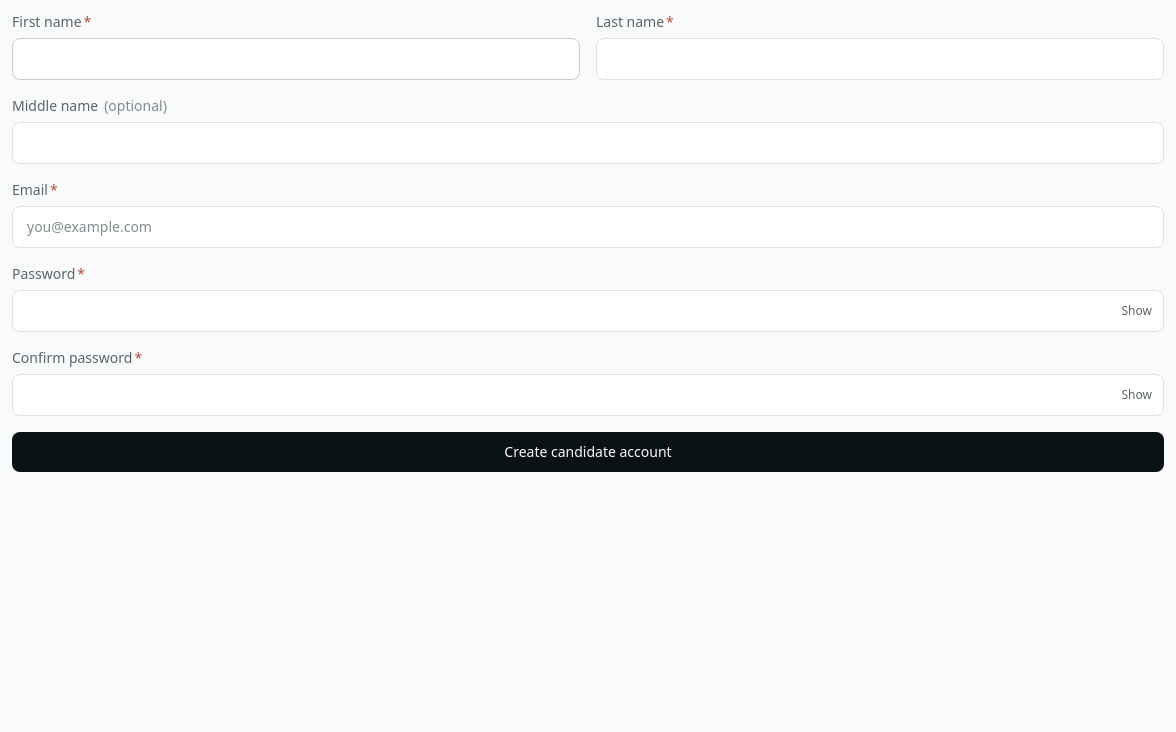
CandidateRegisterForm › rejects a weak password with a specific reason
The width and height of the screenshot is (1176, 732).
Type "Ada" into the field labelled "First name*" at (296, 59), box x1=12 y1=38 x2=580 y2=80
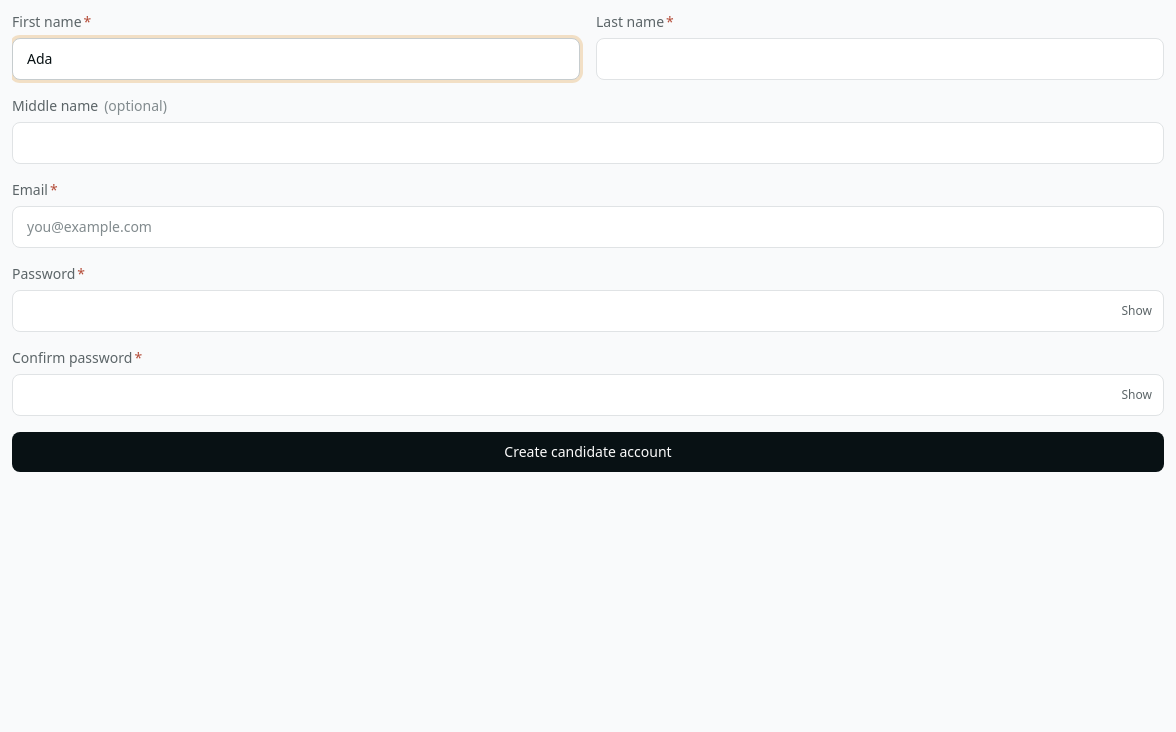
Type "Lovelace" into the field labelled "Last name*" at (880, 59), box x1=596 y1=38 x2=1164 y2=80
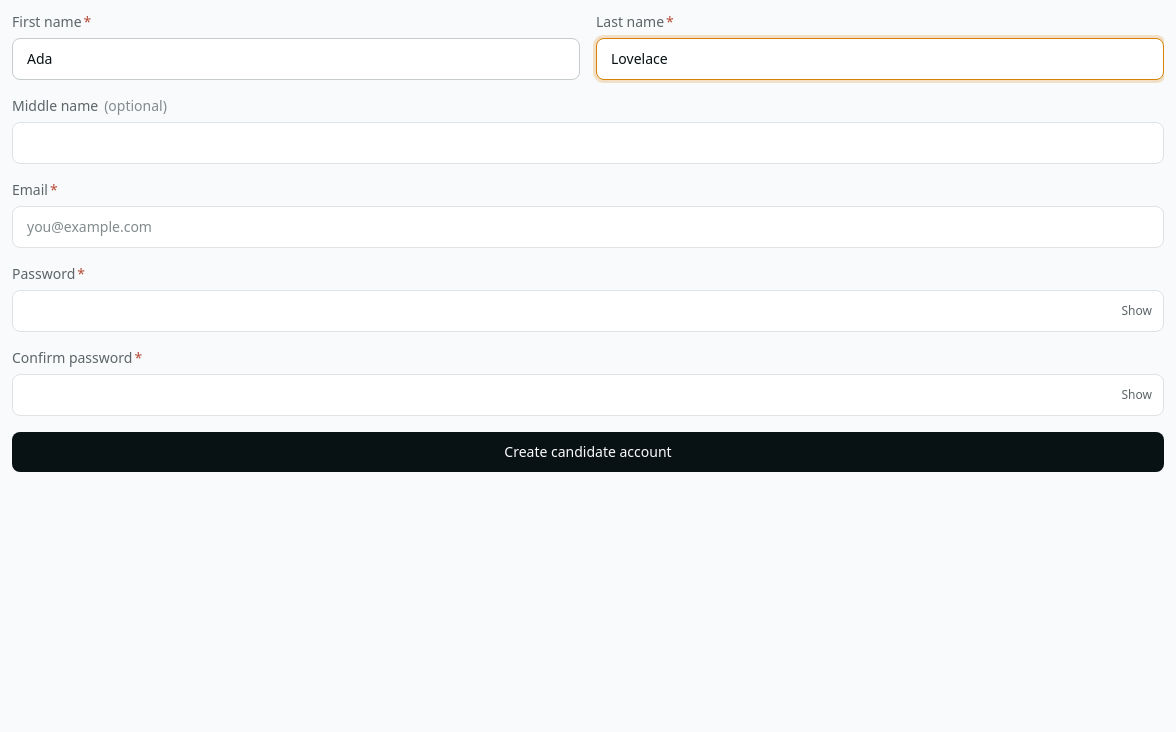
Type "ada@example.com" into the field labelled "Email*" at (588, 227), box x1=12 y1=206 x2=1164 y2=248
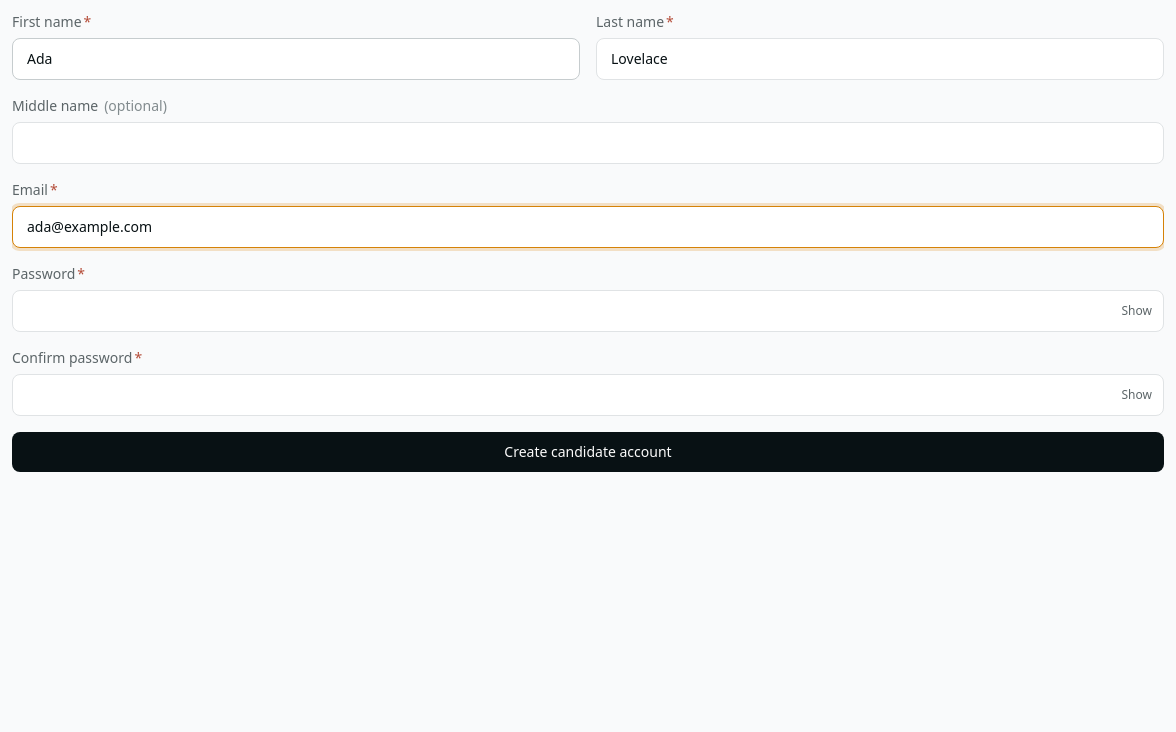
Type "weakpassword" into the password field labelled "Password*" at (588, 311), box x1=12 y1=290 x2=1164 y2=332
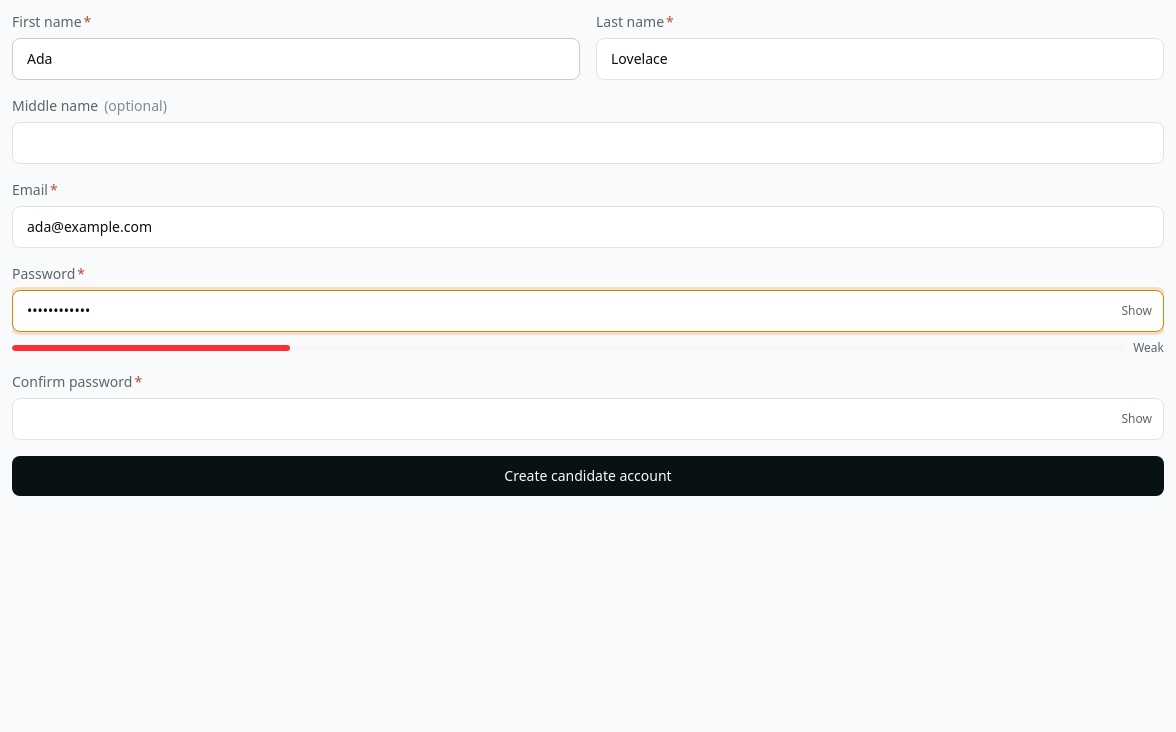
Type "weakpassword" into the password field labelled "Confirm password*" at (588, 419), box x1=12 y1=398 x2=1164 y2=440
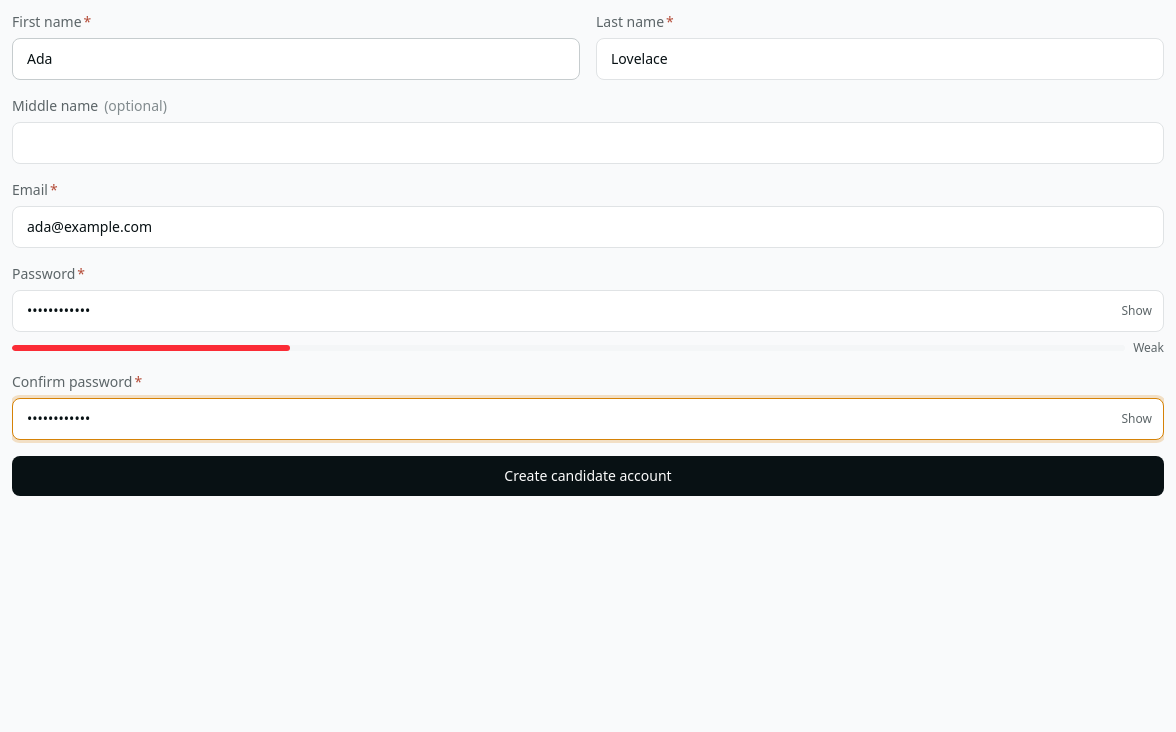
Click the button "Create candidate account" at (588, 476), box x1=12 y1=456 x2=1164 y2=496
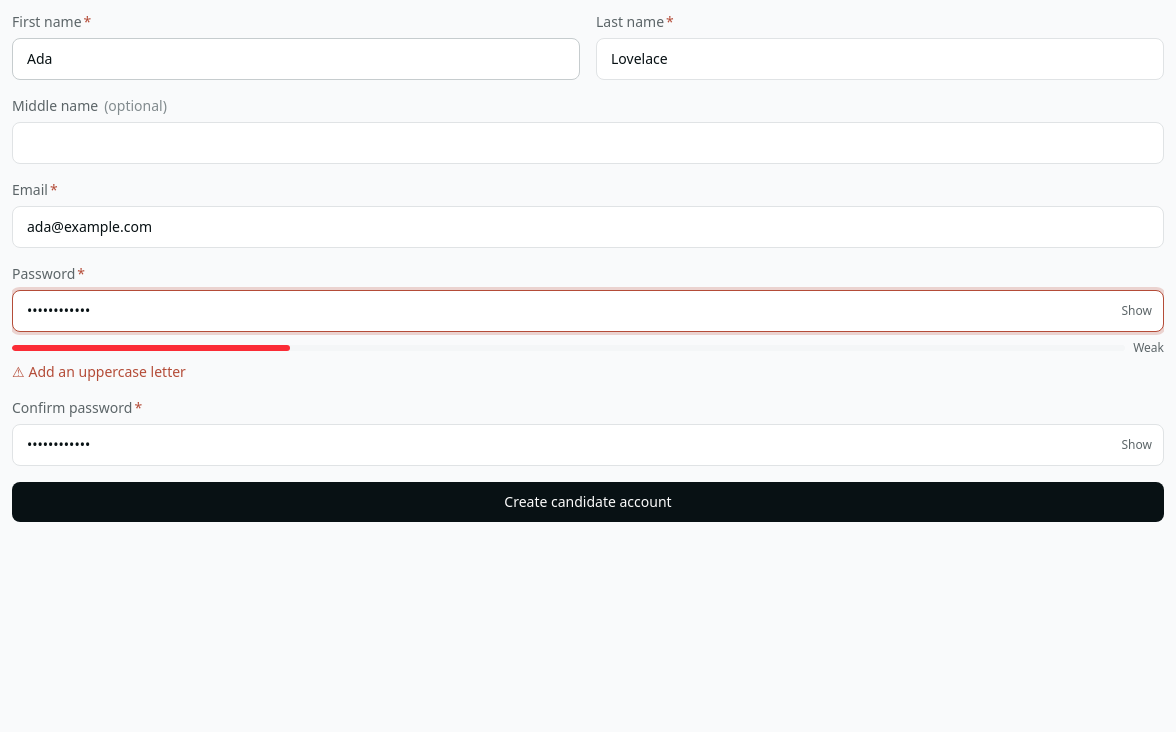
Check: the text "Add an uppercase letter" is shown, box x1=29 y1=362 x2=186 y2=382
